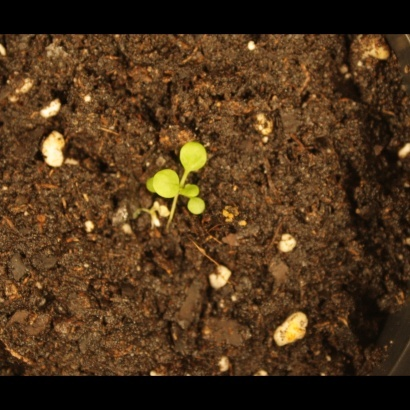leaf: (151, 167, 182, 205), (179, 141, 212, 174), (140, 174, 163, 198), (186, 196, 209, 219), (180, 179, 203, 202)
